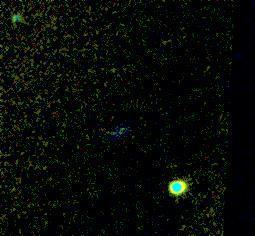star: (0, 34, 22, 64)
